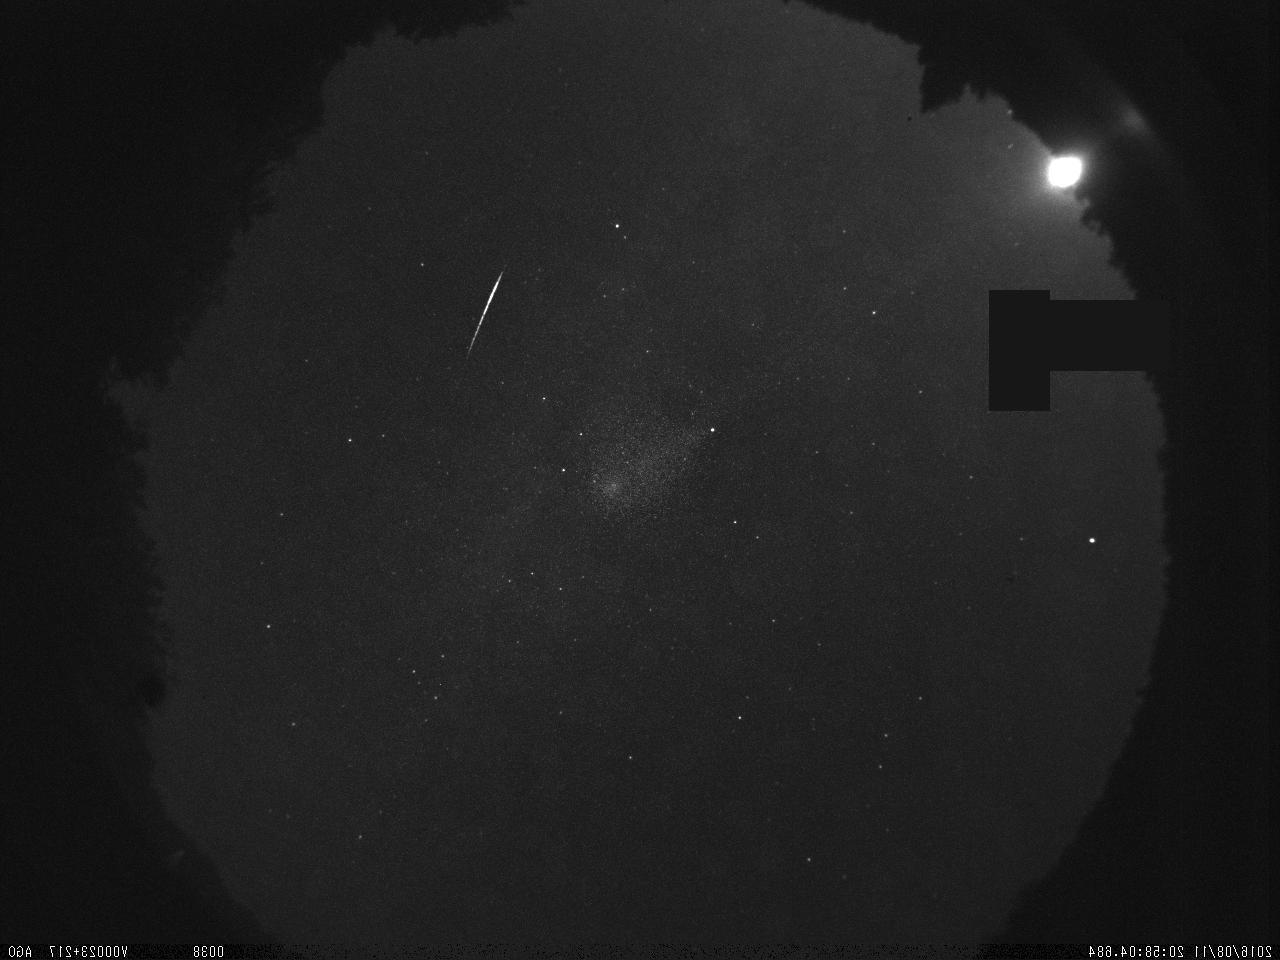meteor: (458, 268, 515, 361)
